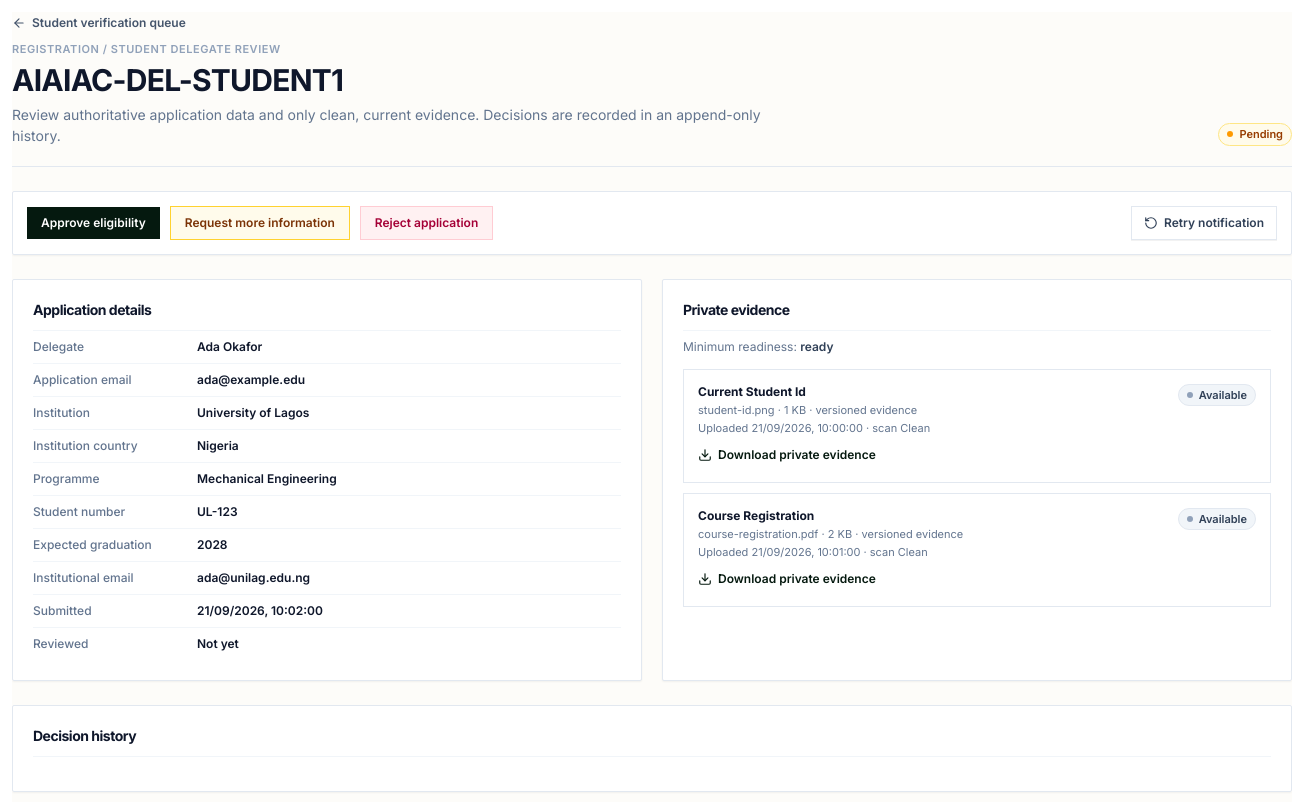
Student verification workflow UI › shows review controls only to a reviewer and requires a meaningful rejection reason
Click the button "Reject application": [426, 222] box [360,206,493,240]
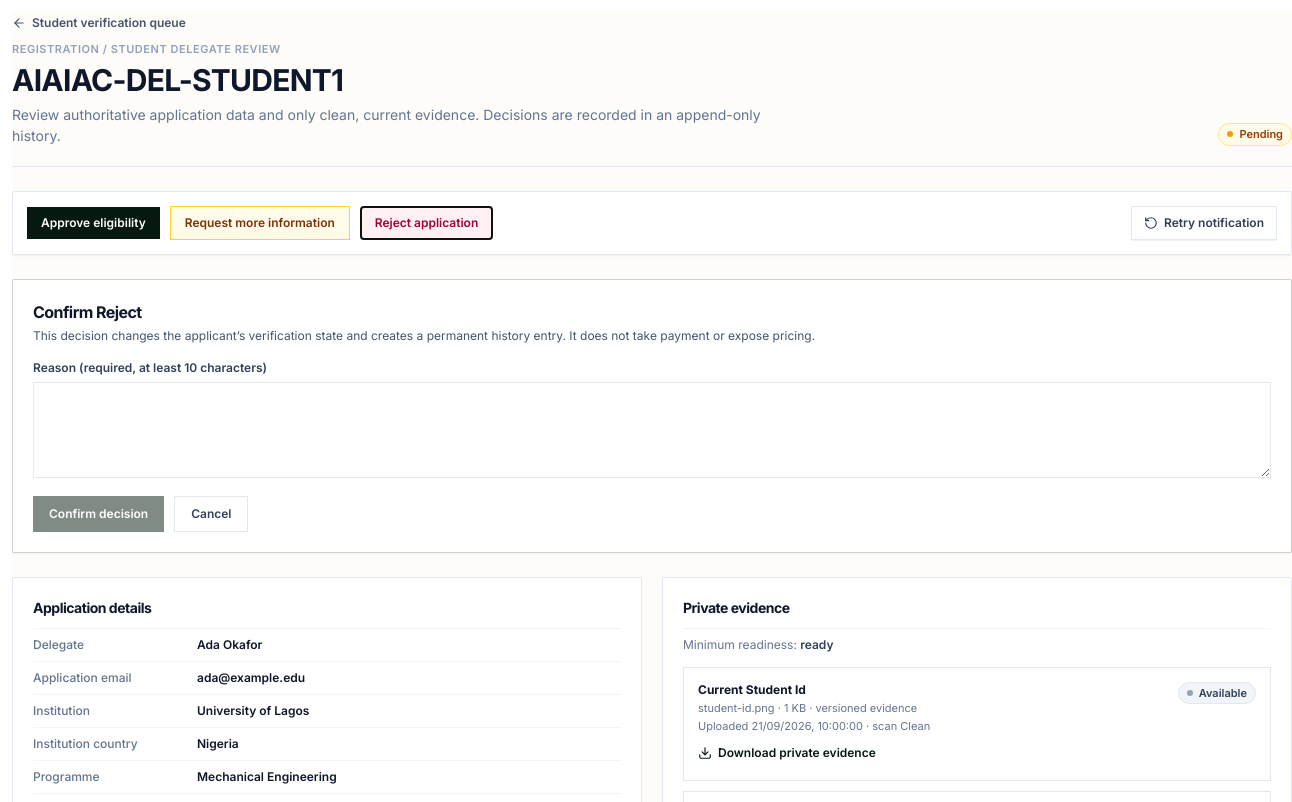
Check: the button "Confirm decision" is disabled, box [33,496,164,532]
In the text box labelled "Reason (required, at least 10 characters)": [652, 430] box [33,382,1271,478], type "The evidence does not demonstrate current enrolment."
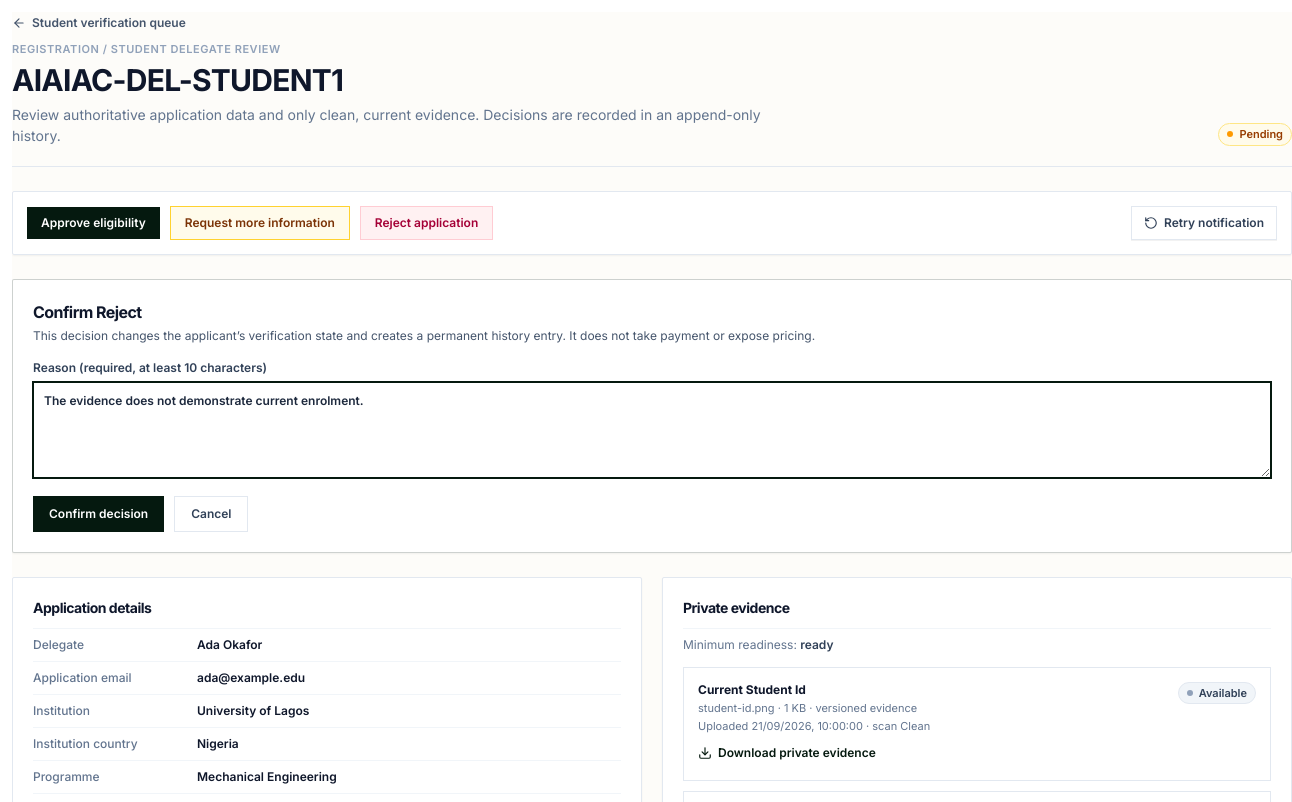
Check: the text "Ada Okafor" is shown, box [197,636,262,652]
Check: the button "Confirm decision" is enabled, box [33,496,164,532]
